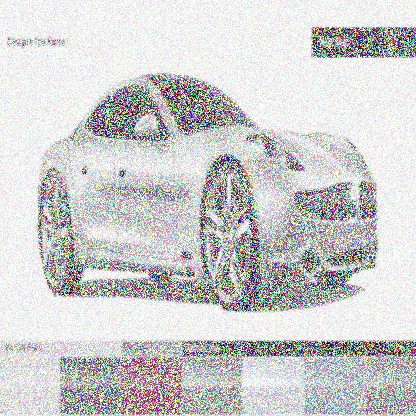Vehicle: (38, 72, 380, 314)
